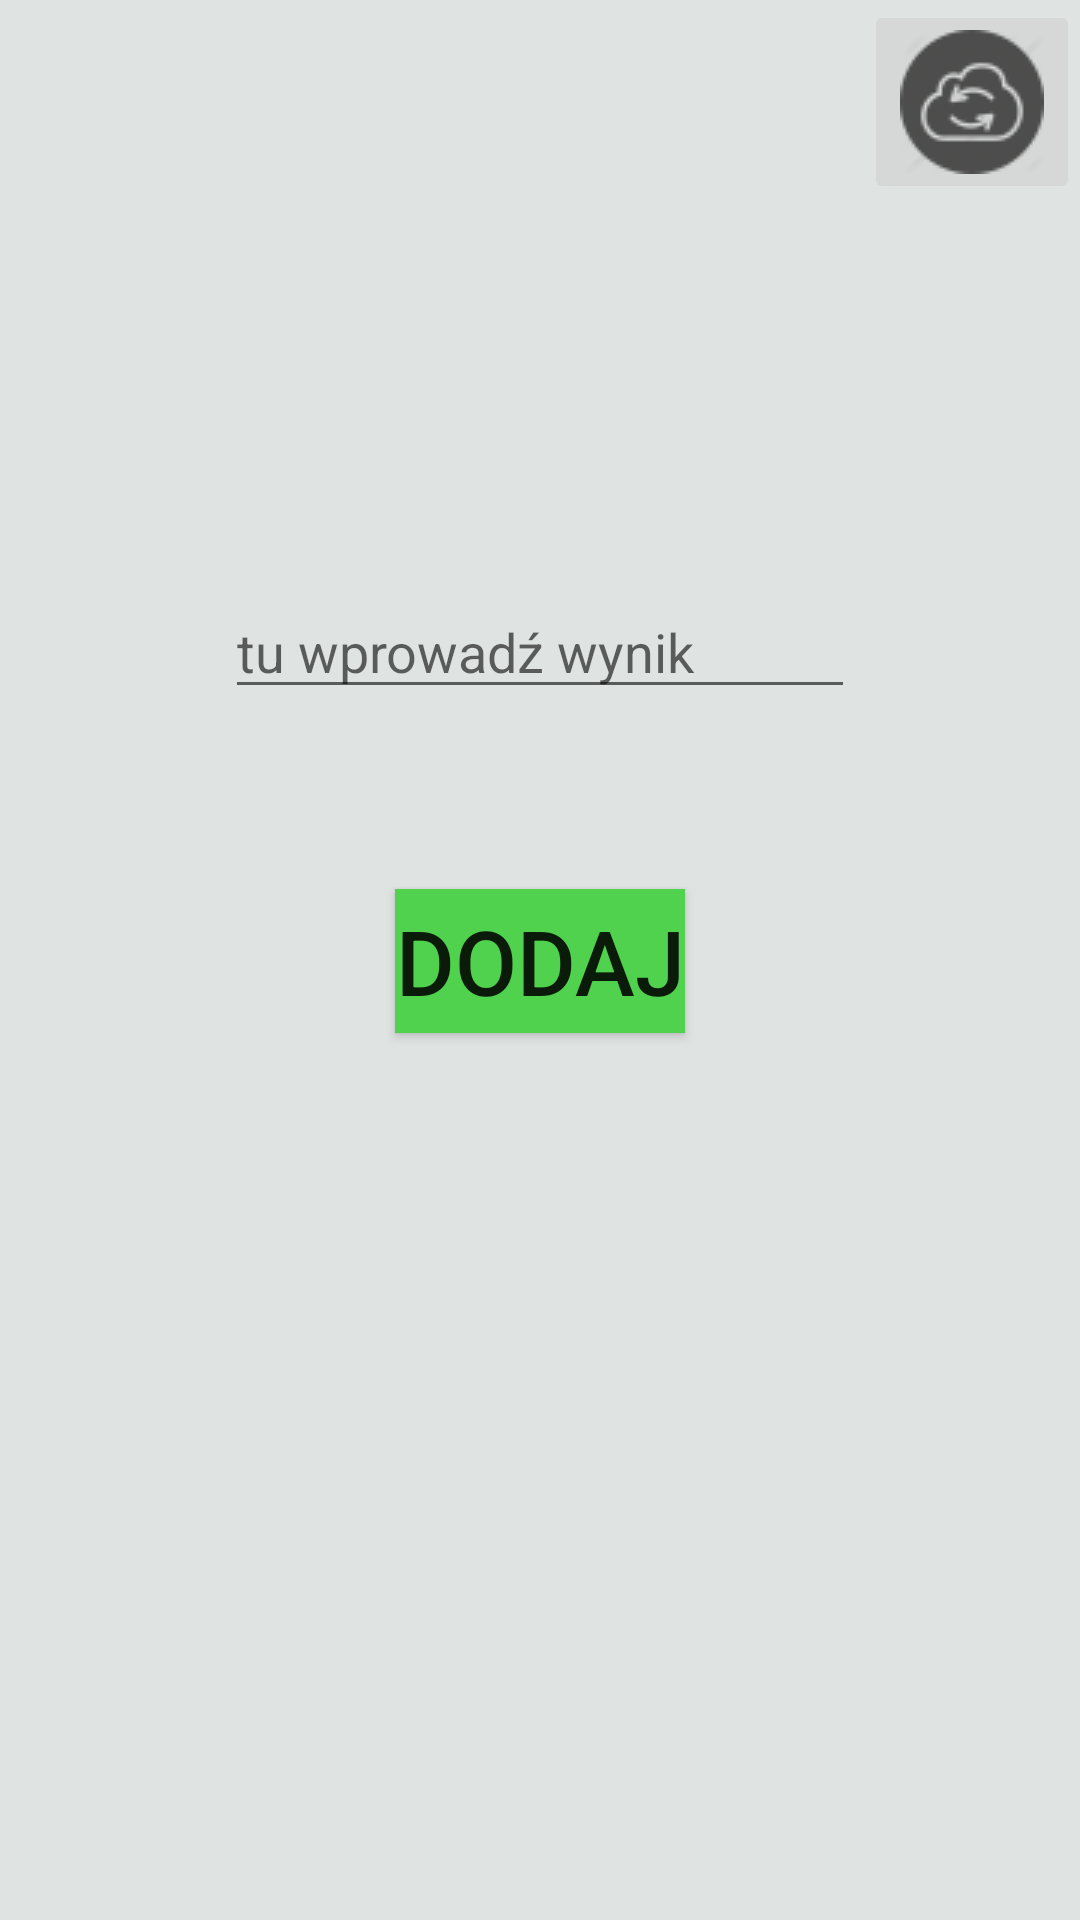

Icon click points for this 1080 x 1920 phone screenshot, format (x=x, y=y):
refresh: (x=972, y=102)
